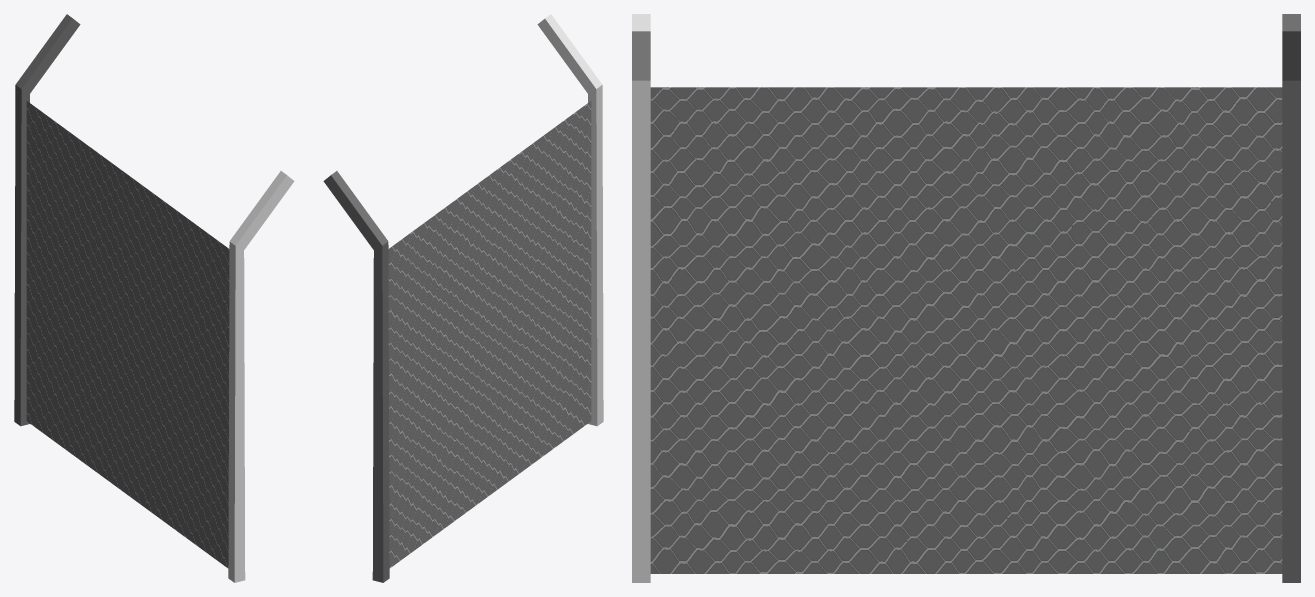
File: Chainlink_fence(1).fbx
The picture shows the model from 3 angles, left to right: view 1: azimuth 30°, elevation 25°; view 2: azimuth 150°, elevation 25°; view 3: azimuth 270°, elevation 25°; orthographic projection. The views are drawn at different scales.
Parts seen in each view (by area): view 1: Chainlink, Fencepost, Fencepost 2; view 2: Chainlink, Fencepost 2, Fencepost; view 3: Chainlink, Fencepost, Fencepost 2.
Boxes of the visible parts, bbox=[...] form: Chainlink: bbox=[26, 101, 229, 568]; Fencepost: bbox=[228, 171, 294, 582]; Fencepost 2: bbox=[14, 14, 80, 426]; Chainlink: bbox=[388, 101, 591, 568]; Fencepost 2: bbox=[323, 171, 389, 582]; Fencepost: bbox=[537, 14, 603, 426]; Chainlink: bbox=[650, 87, 1282, 573]; Fencepost: bbox=[632, 14, 650, 582]; Fencepost 2: bbox=[1282, 14, 1300, 582].
Bounding box in the file's own units: 121 × 764 × 772.
